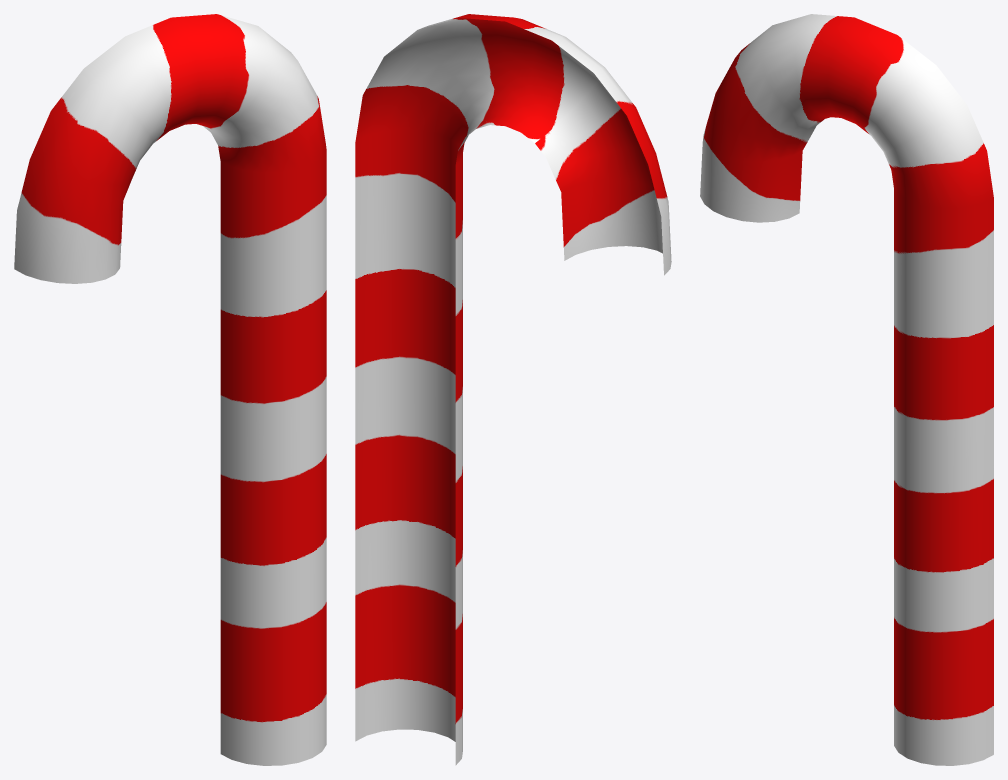
File: Polka.fbx
The picture shows the model from 3 angles, left to right: view 1: azimuth 30°, elevation 25°; view 2: azimuth 150°, elevation 25°; view 3: azimuth 330°, elevation 25°; orthographic projection. The views are drawn at different scales.
Parts seen in each view (by area): view 1: pTorus1; view 2: pTorus1; view 3: pTorus1.
Part boxes in pixels (x1,y1,x2,y2): pTorus1: (14,14,326,765); pTorus1: (355,14,671,765); pTorus1: (700,14,993,765).
Bounding box in the file's own units: 1.37 × 3.21 × 0.2219.
1 material, 1 textured.
